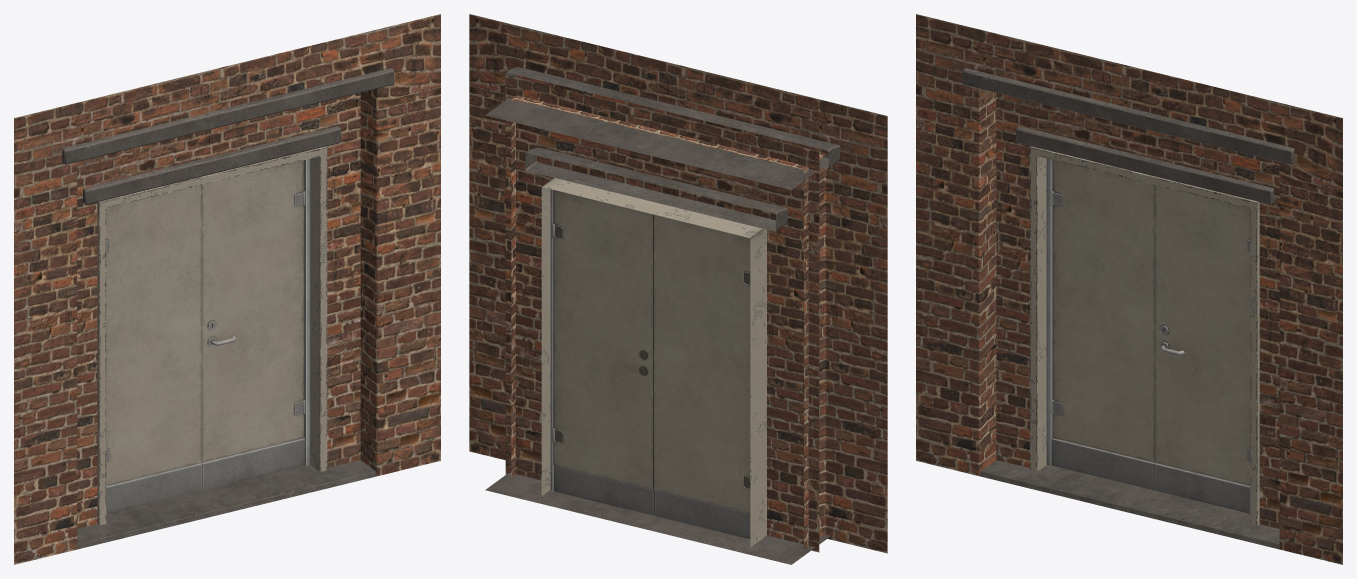
The model's file is bay_door.gltf.
The picture shows the model from 3 angles, left to right: view 1: azimuth 30°, elevation 25°; view 2: azimuth 150°, elevation 25°; view 3: azimuth 330°, elevation 25°; orthographic projection. The views are drawn at different scales.
Parts seen in each view (by area): view 1: bay_door; view 2: bay_door; view 3: bay_door.
Part boxes in pixels (box(x1,y1,x2,y2)): bay_door: box(14, 14, 440, 564); bay_door: box(469, 14, 887, 564); bay_door: box(916, 14, 1342, 564).
Size of the model in its own units: 3 by 3 by 0.53.
4 materials, 4 textured.
